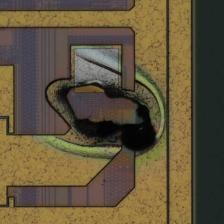BLOCK ETCH: (32, 44, 169, 162)
